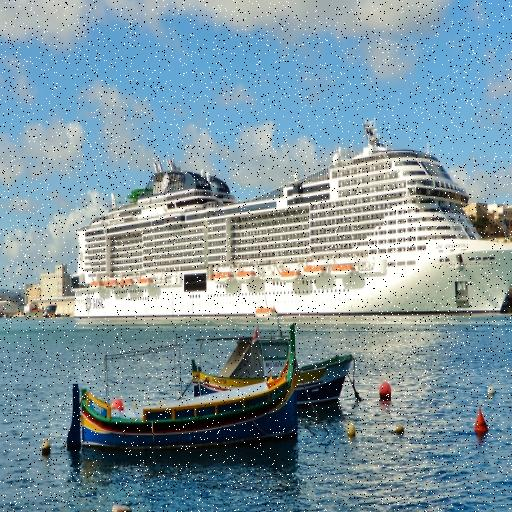cruises: (70, 131, 512, 325)
